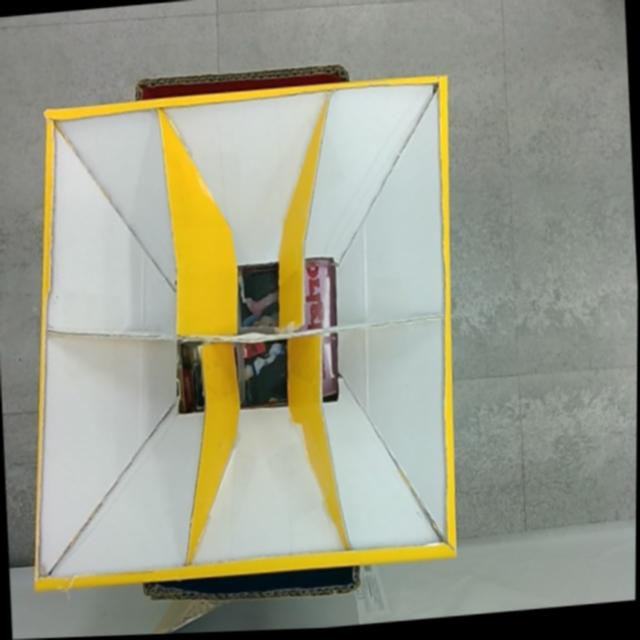box: (7, 54, 472, 619)
